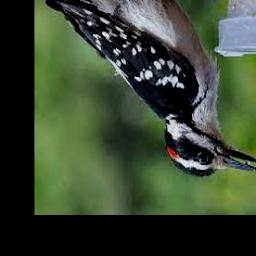Woodpecker: (34, 0, 256, 177)
